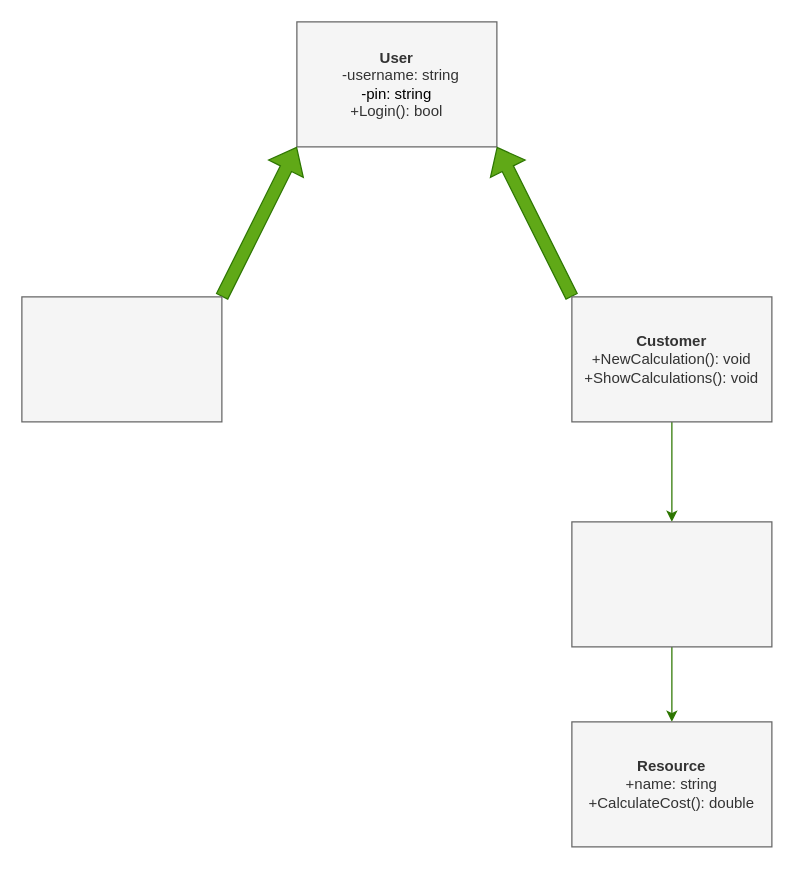
Image size: 794x869. Some labels were removed from this diagram. The shapes that lost their labels are listed below. From the top down, each one's box as (x1, y1, x2, y2) in pixels, then its label:
(21, 296, 222, 422): Admin +CreateUser(): void +DeleteUser(): void
(571, 521, 772, 647): Calculation +username: string +date: DateTime +ShowSummary(); void
